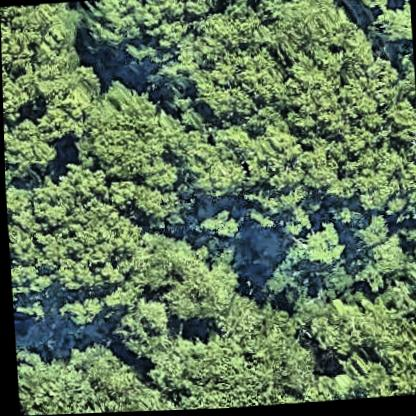tree-top: (4, 168, 124, 312), (318, 72, 416, 204), (76, 82, 172, 185), (229, 122, 313, 235), (155, 339, 276, 412), (145, 0, 257, 76), (13, 348, 113, 416), (175, 125, 251, 204), (260, 0, 350, 64), (189, 58, 264, 128), (164, 261, 238, 331), (307, 301, 384, 368), (0, 4, 79, 65), (121, 229, 189, 293), (77, 0, 151, 58), (3, 113, 61, 186), (107, 296, 170, 361), (350, 220, 409, 289), (287, 222, 348, 275), (199, 79, 256, 133), (335, 356, 393, 402), (254, 263, 306, 312), (54, 293, 108, 338), (1, 63, 44, 118), (368, 5, 413, 55), (192, 207, 242, 250), (123, 182, 167, 225), (353, 0, 390, 19), (400, 223, 416, 257), (401, 365, 416, 398)
